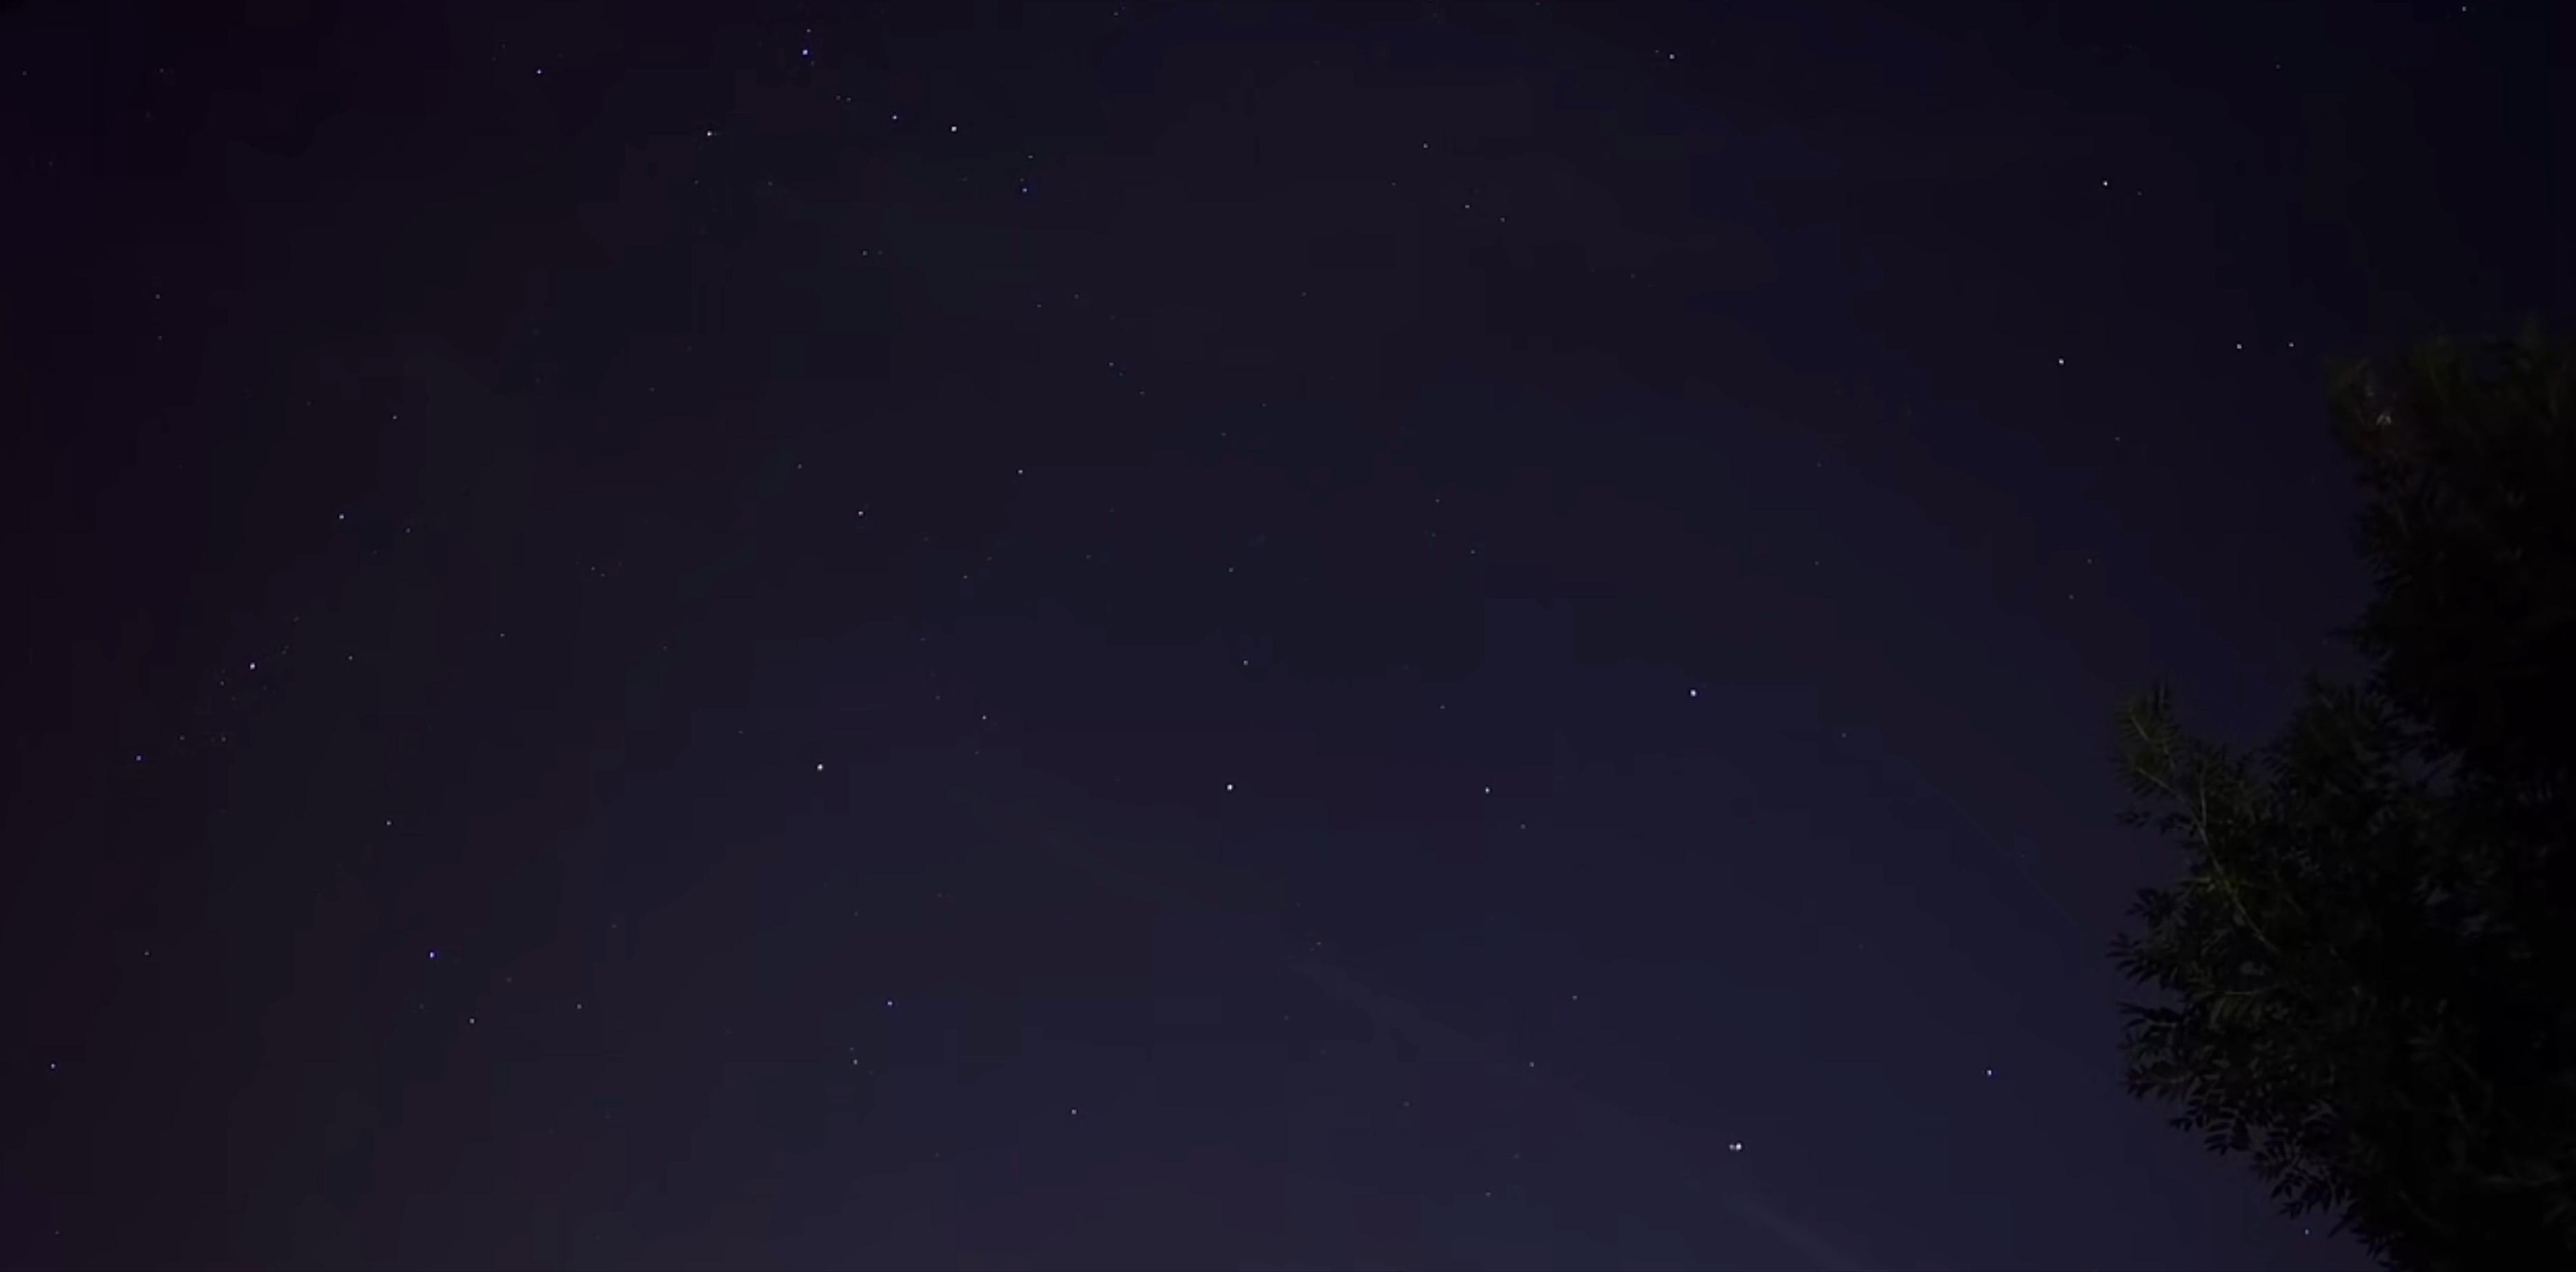Plane: (1718, 1116, 1758, 1162)
